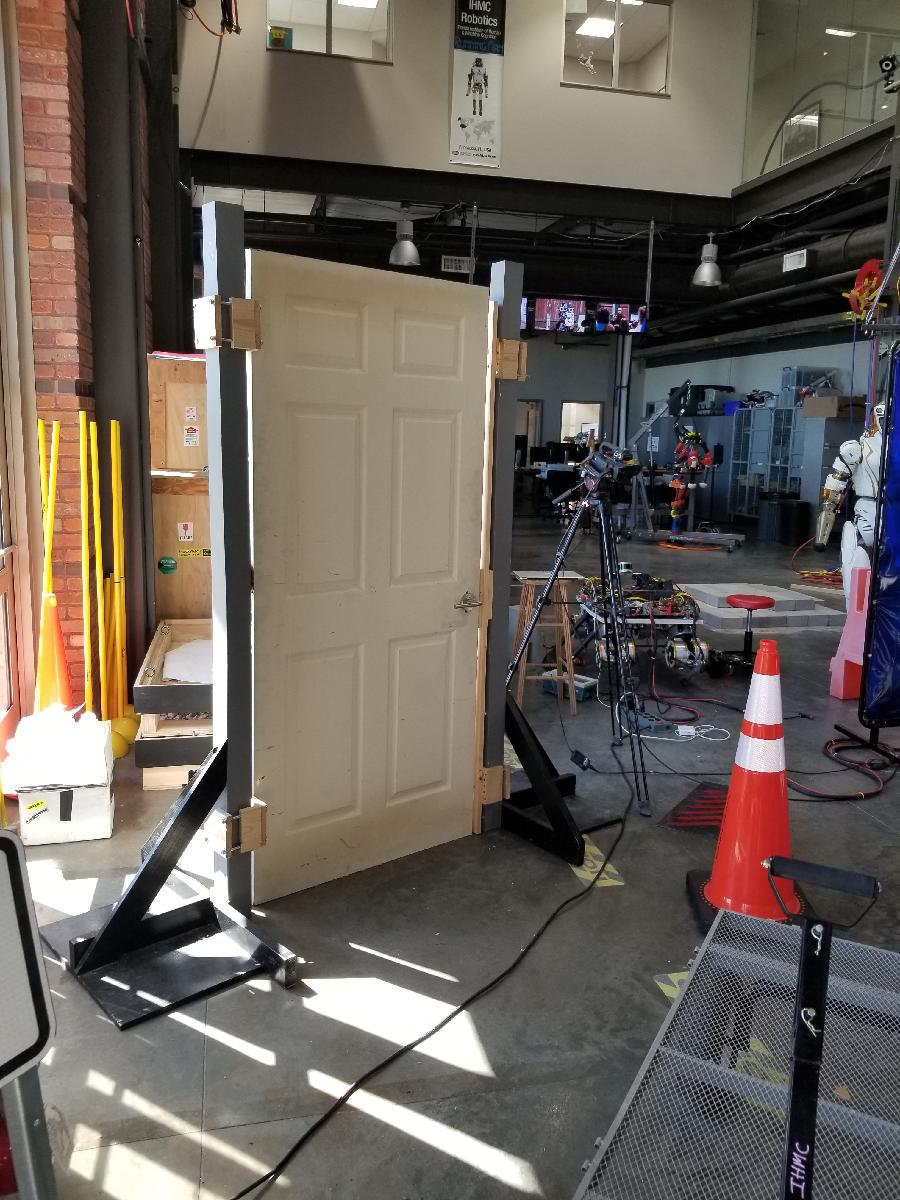door: (240, 244, 501, 917)
doorHandle: (449, 587, 486, 619)
